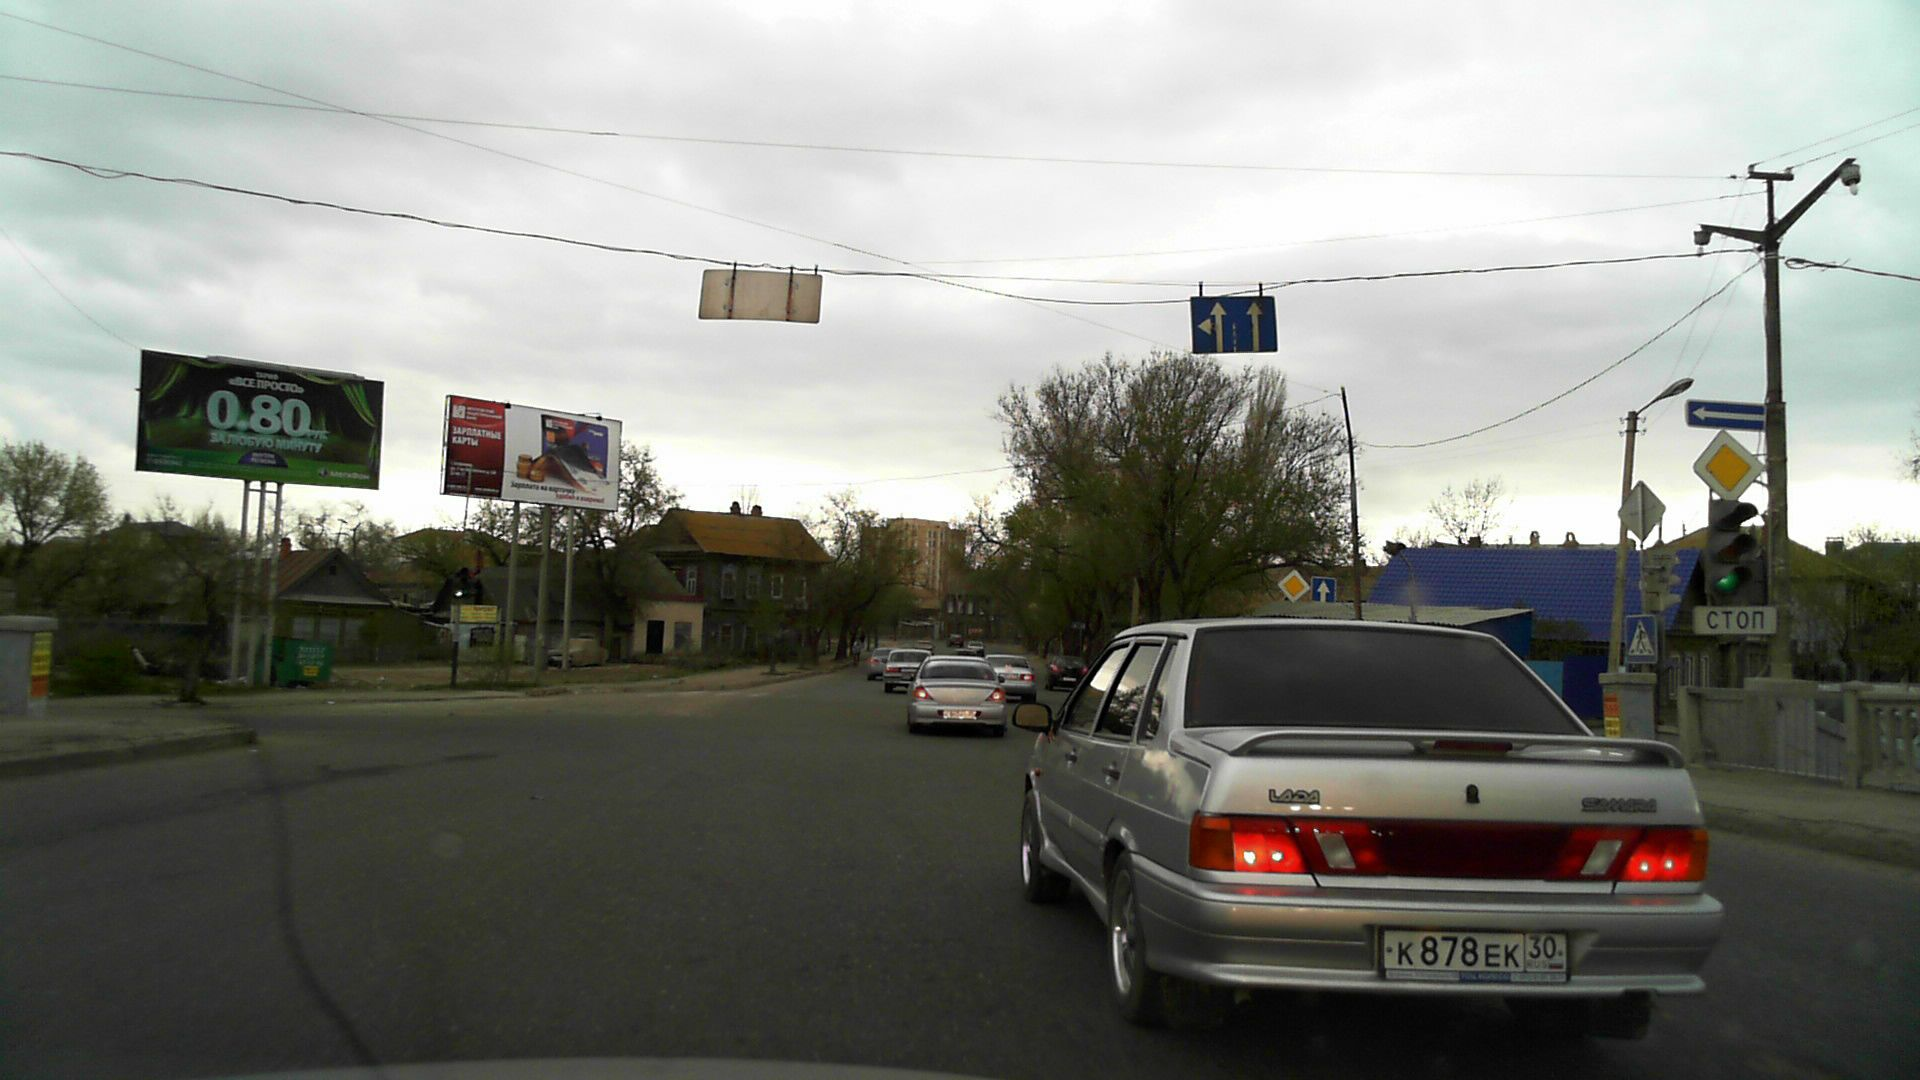One-Way Traffic: (1687, 401, 1764, 431)
